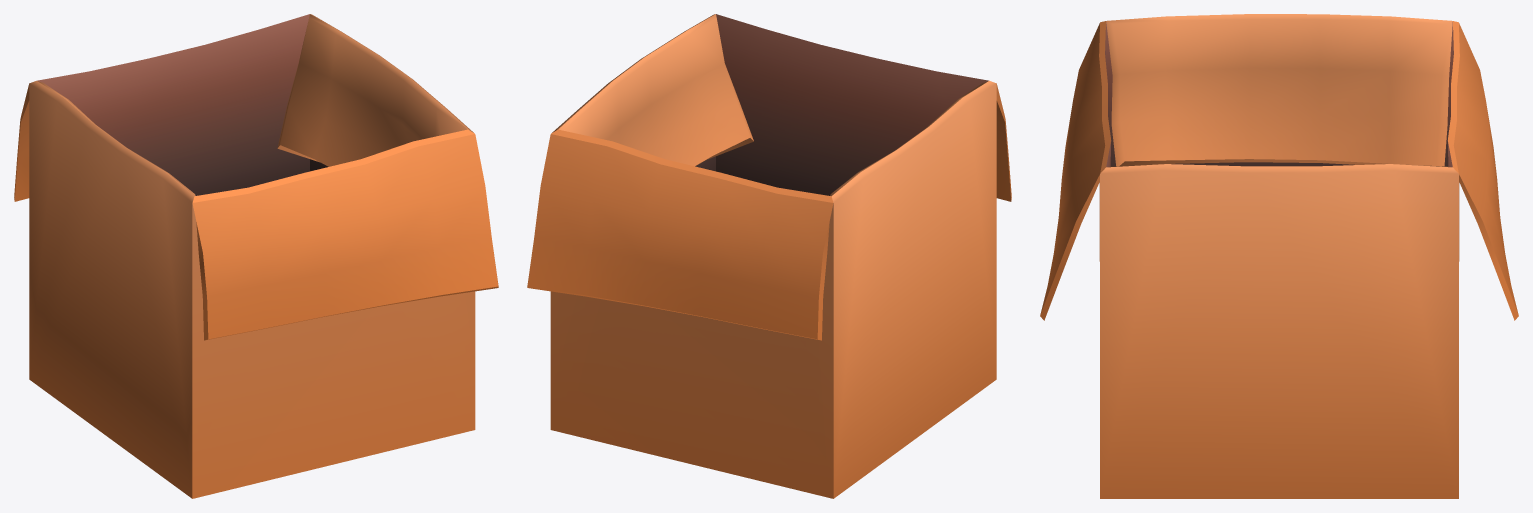
File: Trash_pile_006.fbx
3 views of the same model, side by side, from view 1: azimuth 30°, elevation 25°; view 2: azimuth 150°, elevation 25°; view 3: azimuth 270°, elevation 25° (orthographic). The views are drawn at different scales.
Parts seen in each view (by area): view 1: Trash_pile_006; view 2: Trash_pile_006; view 3: Trash_pile_006.
Boxes of the visible parts, bbox=[...] form: Trash_pile_006: bbox=[14, 14, 498, 498]; Trash_pile_006: bbox=[527, 14, 1011, 498]; Trash_pile_006: bbox=[1040, 14, 1518, 498].
Size of the model in its own units: 41.56 by 53.4 by 40.97.
